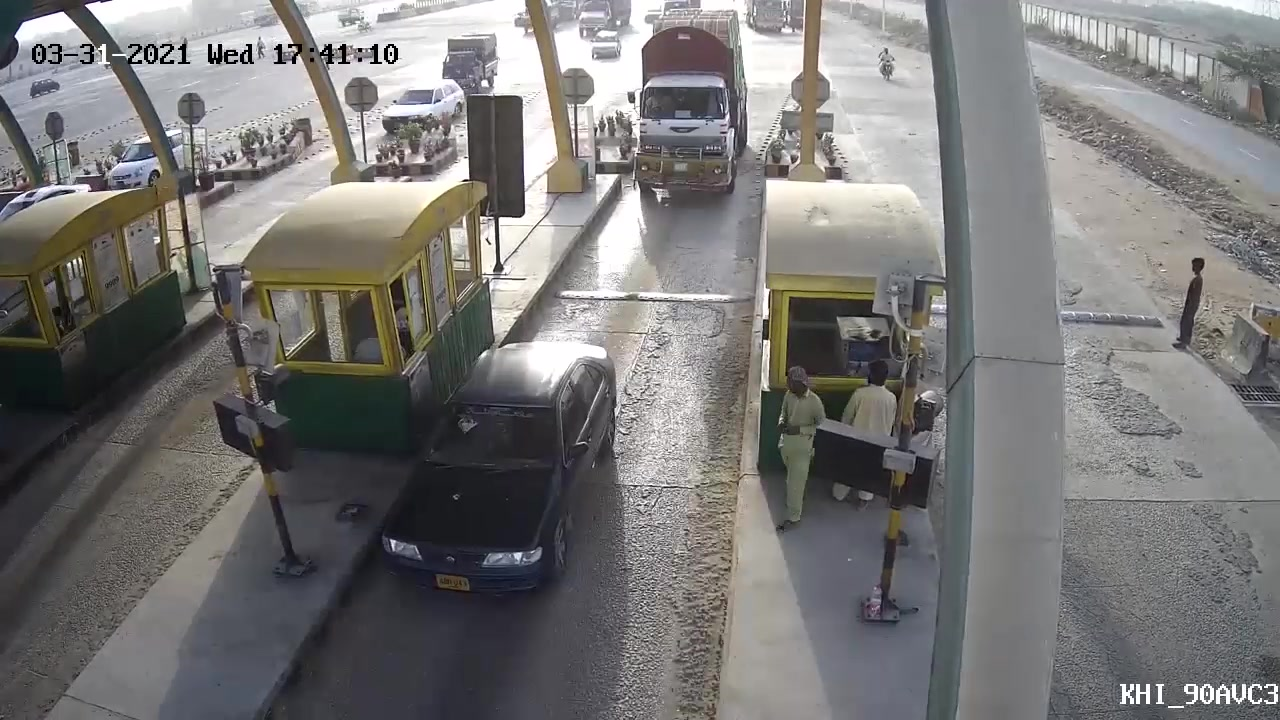F1: (377, 342, 624, 607)
F5: (629, 18, 759, 214)
